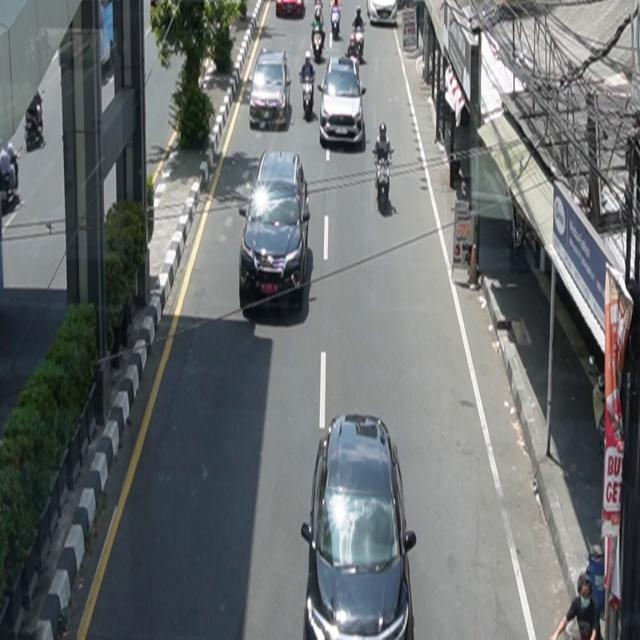car: (302, 414, 418, 640), (318, 55, 367, 147), (250, 49, 292, 129), (367, 1, 398, 26), (276, 1, 306, 18)
